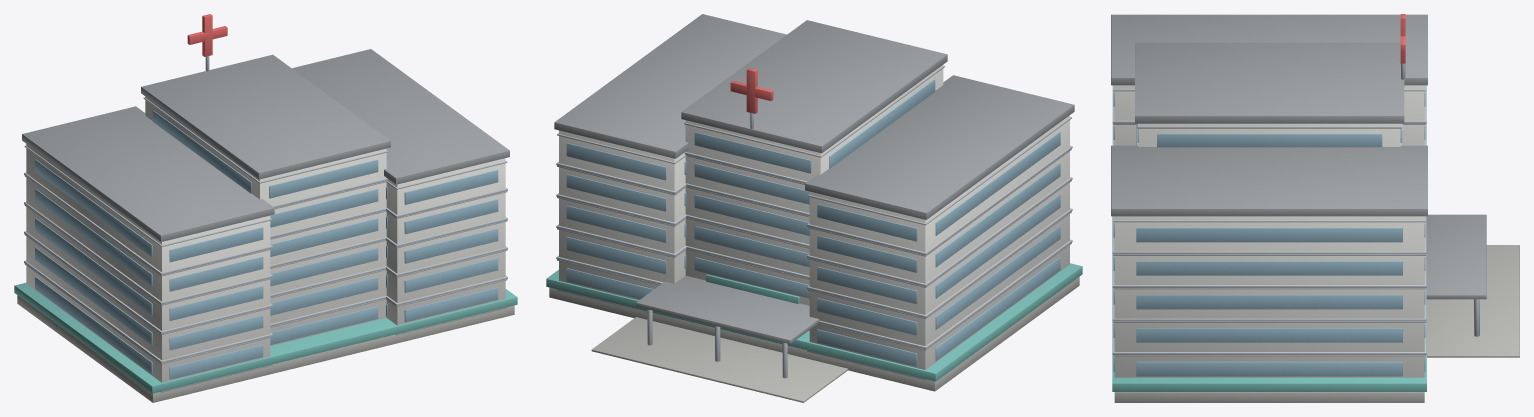
The model's file is th9_krankenhaus.glb.
3 views of the same model, side by side, from view 1: azimuth 30°, elevation 25°; view 2: azimuth 150°, elevation 25°; view 3: azimuth 270°, elevation 25° (orthographic). The views are drawn at different scales.
Visible parts, largest first — view 1: Cube.070, Cube.102, Cube.101, Cube.069, Cube.001, Cube.038, Cube.103, Cube, Cube.074, Cube.086, Cube.092, Cube.098 (+25 smaller); view 2: Cube.070, Cube.101, Cube.102, Cube.069, Cube.001, Cube.038, Cube.106, Cube.107, Cube.103, Cube, Cube.086, Cube.092 (+30 smaller); view 3: Cube.038, Cube.069, Cube.102, Cube.101, Cube.106, Cube.107, Cube.103, Cube.041, Cube.047, Cube.059, Cube.065, Cube.053 (+14 smaller).
Boxes of the visible parts, x1,y1,x2,y2 form: Cube.070: (26,144,270,382); Cube.102: (141,54,390,179); Cube.101: (22,106,274,241); Cube.069: (292,49,509,184); Cube.001: (145,96,386,346); Cube.038: (386,158,505,325); Cube.103: (14,282,517,393); Cube: (17,295,514,402); Cube.074: (35,277,152,374); Cube.086: (35,218,152,315); Cube.092: (35,189,152,286); Cube.098: (35,159,152,256); Cube.070: (809,115,1069,369); Cube.101: (805,75,1074,219); Cube.102: (681,20,947,153); Cube.069: (554,14,786,158); Cube.001: (685,65,943,330); Cube.038: (559,130,685,300); Cube.106: (591,317,848,402); Cube.107: (636,275,819,343); Cube.103: (546,263,1082,381); Cube: (549,277,1079,391); Cube.086: (935,194,1060,298); Cube.092: (935,163,1060,267); Cube.038: (1114,216,1424,377); Cube.069: (1111,145,1427,216); Cube.102: (1135,42,1404,123); Cube.101: (1111,14,1427,85); Cube.106: (1427,245,1519,357); Cube.107: (1426,214,1486,299); Cube.103: (1112,216,1426,391); Cube.041: (1136,361,1402,376); Cube.047: (1136,328,1402,342); Cube.059: (1136,261,1402,275); Cube.065: (1136,228,1402,242); Cube.053: (1136,295,1402,309).
Size of the model in its own units: 40.4 by 26.5 by 34.3.
